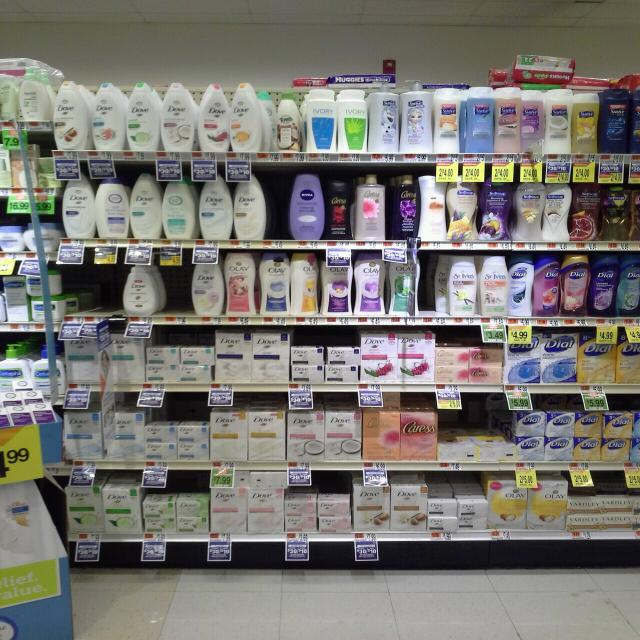void: (79, 265, 117, 331), (421, 253, 447, 329), (159, 262, 184, 326)
